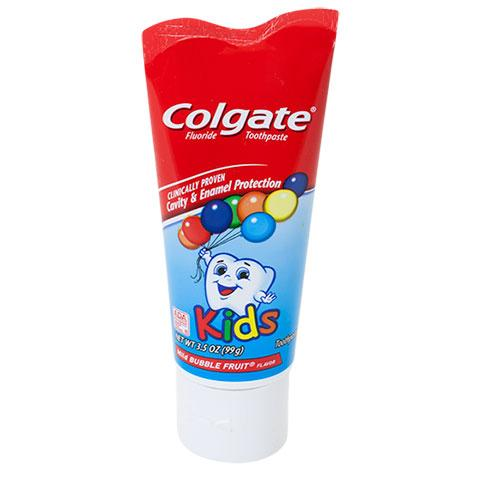toothpaste: (136, 3, 348, 463)
